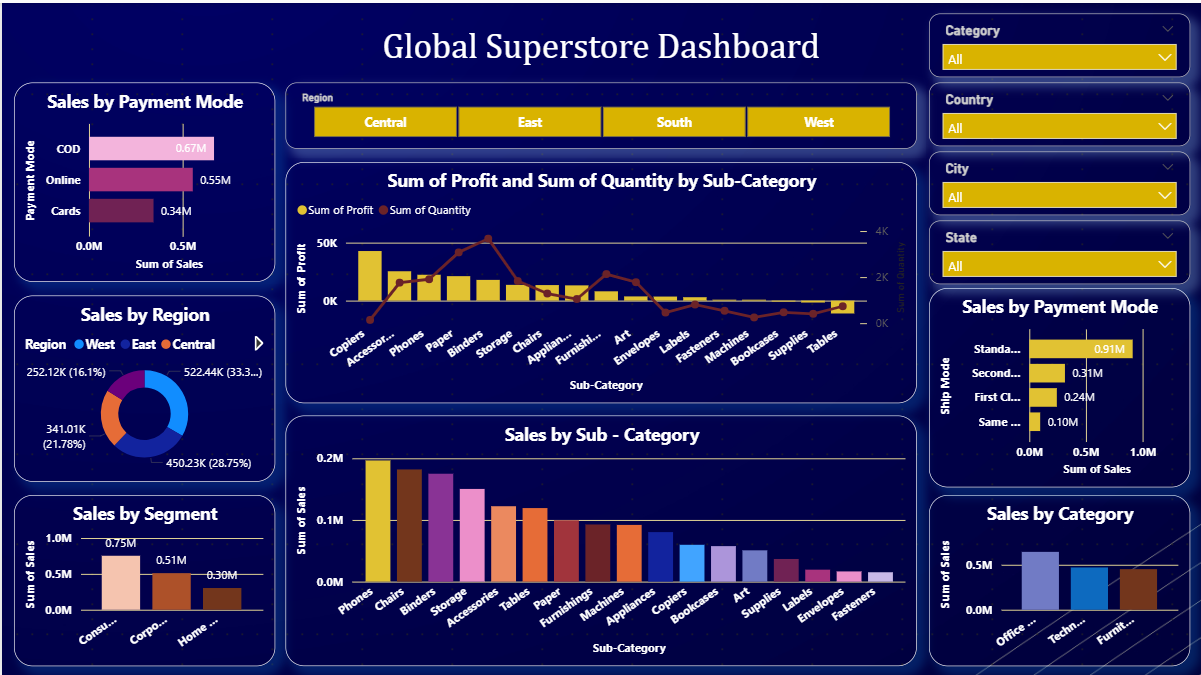

The dashboard page shown, as its layout file describes it:
{"tool":"powerbi","page":{"name":"Day 1","canvas":[1280,720],"ordinal":0},"visuals":[{"type":"barChart","title":"Sales by Payment Mode","fields":{"Y":["Sum(SuperStore_Sales_Dataset.Sales)"],"Category":["SuperStore_Sales_Dataset.Payment Mode"]},"box":[12.8,84.8,278.4,212.8],"z":0},{"type":"donutChart","title":"Sales by Region","fields":{"Y":["Sum(SuperStore_Sales_Dataset.Sales)"],"Category":["SuperStore_Sales_Dataset.Region"]},"box":[12.8,312,278.4,198.4],"z":1000},{"type":"columnChart","title":"Sales by Segment","fields":{"Y":["Sum(SuperStore_Sales_Dataset.Sales)"],"Category":["SuperStore_Sales_Dataset.Segment"]},"box":[12.8,524.8,278.4,182.4],"z":2000},{"type":"columnChart","title":"Sales by Category","fields":{"Y":["Sum(SuperStore_Sales_Dataset.Sales)"],"Category":["SuperStore_Sales_Dataset.Category"]},"box":[988.8,524.8,278.4,182.4],"z":3000},{"type":"columnChart","title":"Sales by Sub - Category","fields":{"Y":["Sum(SuperStore_Sales_Dataset.Sales)"],"Category":["SuperStore_Sales_Dataset.Sub-Category"]},"box":[302.4,440,673.6,267.2],"z":4000},{"type":"barChart","title":"Sales by Payment Mode","fields":{"Y":["Sum(SuperStore_Sales_Dataset.Sales)"],"Category":["SuperStore_Sales_Dataset.Ship Mode"]},"box":[988.8,304,278.4,212.8],"z":5000},{"type":"lineClusteredColumnComboChart","fields":{"Y":["Sum(SuperStore_Sales_Dataset.Profit)"],"Category":["SuperStore_Sales_Dataset.Sub-Category"],"Y2":["Sum(SuperStore_Sales_Dataset.Quantity)"]},"box":[302.4,169.6,673.6,257.6],"z":6000},{"type":"slicer","fields":{"Values":["SuperStore_Sales_Dataset.Category"]},"box":[988.8,11.2,278.4,68],"z":7000},{"type":"slicer","fields":{"Values":["SuperStore_Sales_Dataset.Country"]},"box":[988.8,84.8,278.4,68],"z":8000},{"type":"slicer","fields":{"Values":["SuperStore_Sales_Dataset.City"]},"box":[988.8,158.4,278.4,68],"z":9000},{"type":"slicer","fields":{"Values":["SuperStore_Sales_Dataset.State"]},"box":[988.8,232,278.4,68],"z":10000},{"type":"slicer","fields":{"Values":["SuperStore_Sales_Dataset.Region"]},"box":[302.4,84.8,673.6,70.4],"z":11000},{"type":"textbox","box":[339.2,17.6,600,54.4],"z":12000}]}

Visuals, with their boxes in screenshot pixels (x1, y1, x2, y2), scaled from the page's 1280x720 canvas onto the 1201x675 screenshot:
"Sales by Payment Mode" barChart: 12/80/273/279
"Sales by Region" donutChart: 12/292/273/478
"Sales by Segment" columnChart: 12/492/273/663
"Sales by Category" columnChart: 928/492/1189/663
"Sales by Sub - Category" columnChart: 284/412/916/663
"Sales by Payment Mode" barChart: 928/285/1189/484
lineClusteredColumnComboChart - Sum(SuperStore_Sales_Dataset.Profit) x SuperStore_Sales_Dataset.Sub-Category: 284/159/916/401
slicer - SuperStore_Sales_Dataset.Category: 928/10/1189/74
slicer - SuperStore_Sales_Dataset.Country: 928/80/1189/143
slicer - SuperStore_Sales_Dataset.City: 928/148/1189/212
slicer - SuperStore_Sales_Dataset.State: 928/218/1189/281
slicer - SuperStore_Sales_Dataset.Region: 284/80/916/146
textbox: 318/16/881/68
